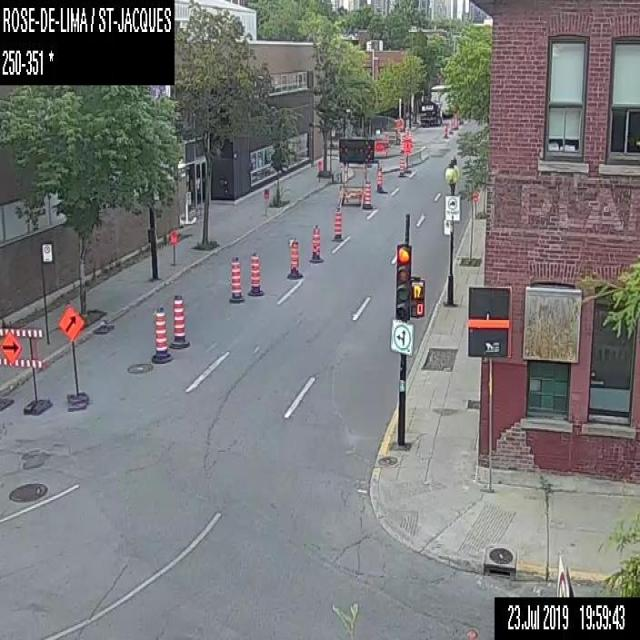construction: (0, 326, 48, 418), (60, 302, 87, 408), (338, 135, 386, 161), (151, 304, 172, 361), (170, 292, 188, 348), (227, 253, 245, 303), (245, 252, 262, 295), (285, 238, 302, 278), (309, 222, 321, 262), (169, 231, 177, 268), (403, 137, 411, 174), (363, 176, 371, 208), (375, 165, 384, 193), (333, 209, 341, 239), (390, 116, 404, 129), (472, 191, 478, 216), (398, 154, 404, 177), (316, 157, 322, 180), (263, 186, 268, 212), (443, 122, 447, 137), (0, 347, 5, 357), (0, 336, 4, 343)
